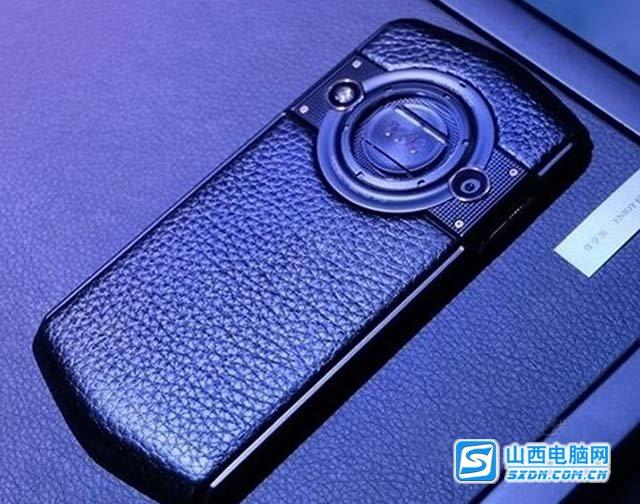phone: (68, 48, 574, 476)
